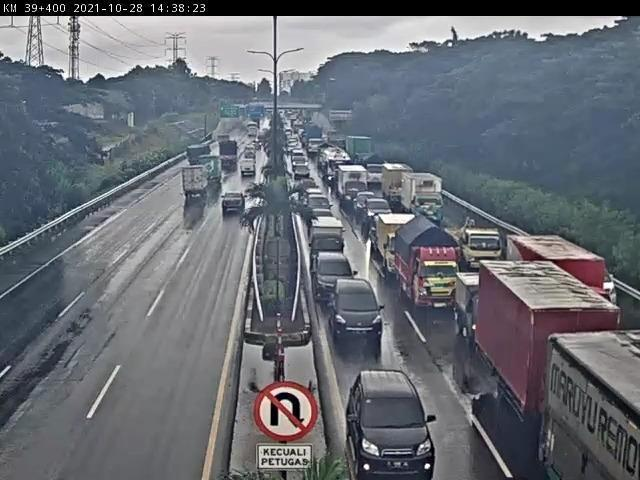car: (351, 371, 436, 476), (335, 280, 388, 348), (316, 251, 355, 299), (221, 188, 249, 215), (310, 209, 340, 222), (310, 196, 334, 211), (240, 159, 259, 177), (295, 167, 316, 180), (306, 188, 326, 198)
truck: (479, 265, 619, 425), (546, 330, 640, 480), (393, 223, 466, 320), (509, 239, 617, 299), (445, 205, 506, 262), (456, 271, 502, 340), (379, 215, 420, 269), (403, 173, 444, 219), (381, 160, 417, 204), (309, 218, 347, 258), (182, 163, 213, 203)
